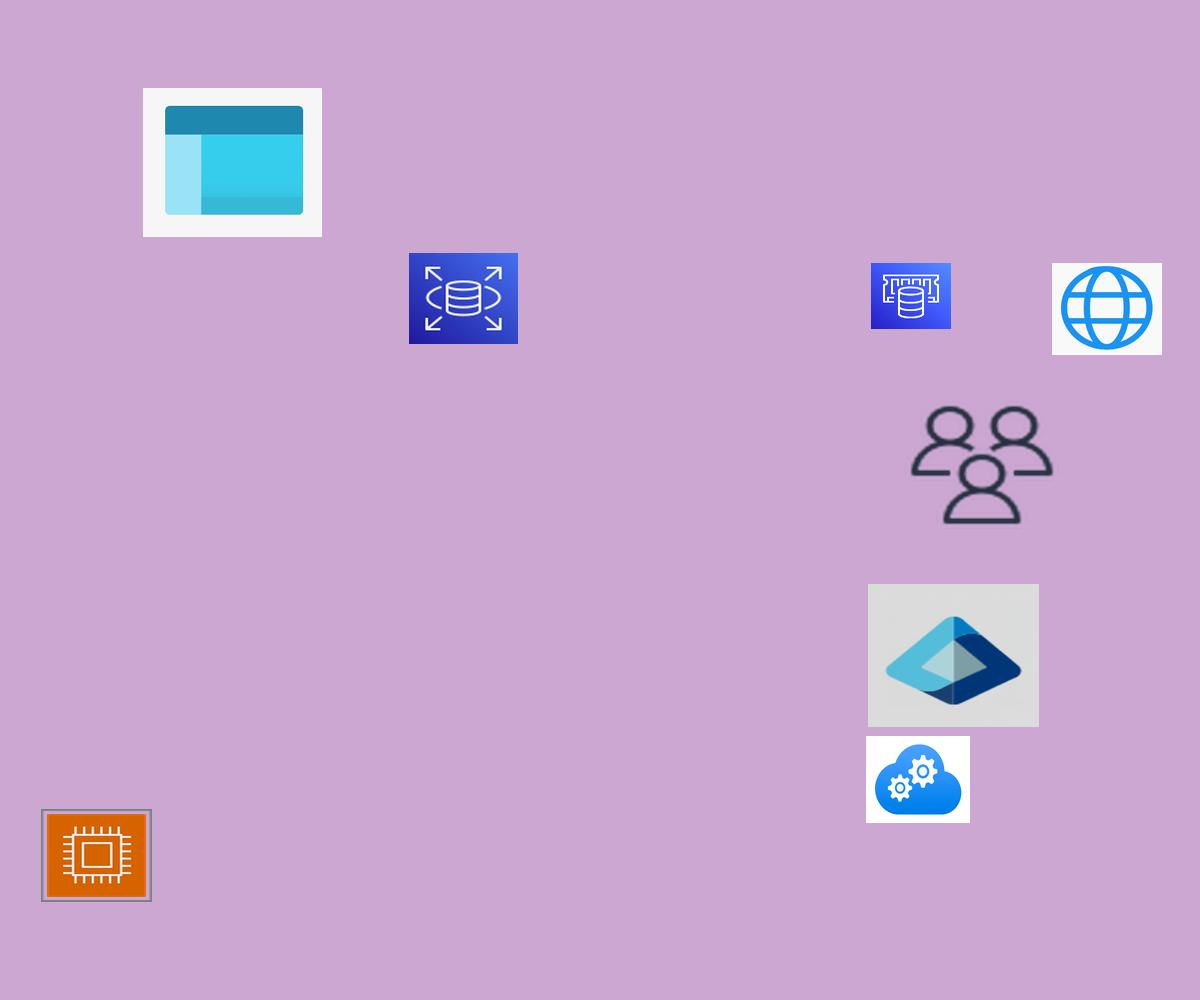AWS-Category_Compute: (41, 809, 152, 902)
AWS-ElastiCache: (871, 263, 951, 329)
AWS-RDS: (409, 253, 518, 344)
AWS-Res_Users: (905, 401, 1059, 529)
Azure_cloud_services: (866, 736, 970, 823)
Azure_http: (1052, 263, 1162, 355)
Azure_management-portal: (143, 88, 322, 237)
Azure_microsoft_entra: (868, 584, 1039, 727)
